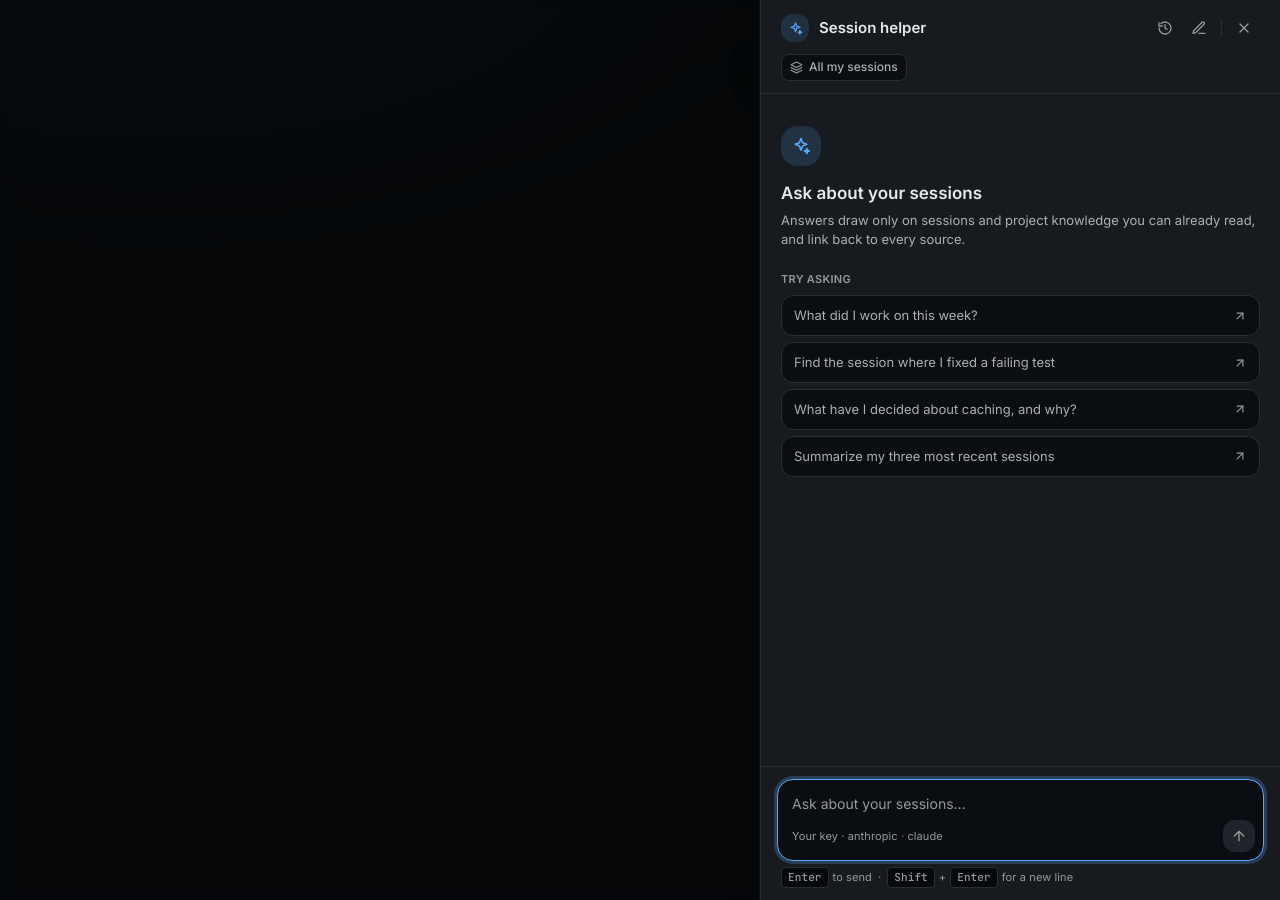
Test: HelperPanel — streaming › does not double the break the server already streamed
Type "q" into the text box named "Ask the session helper" at (1020, 800), box [778,780,1263,820]
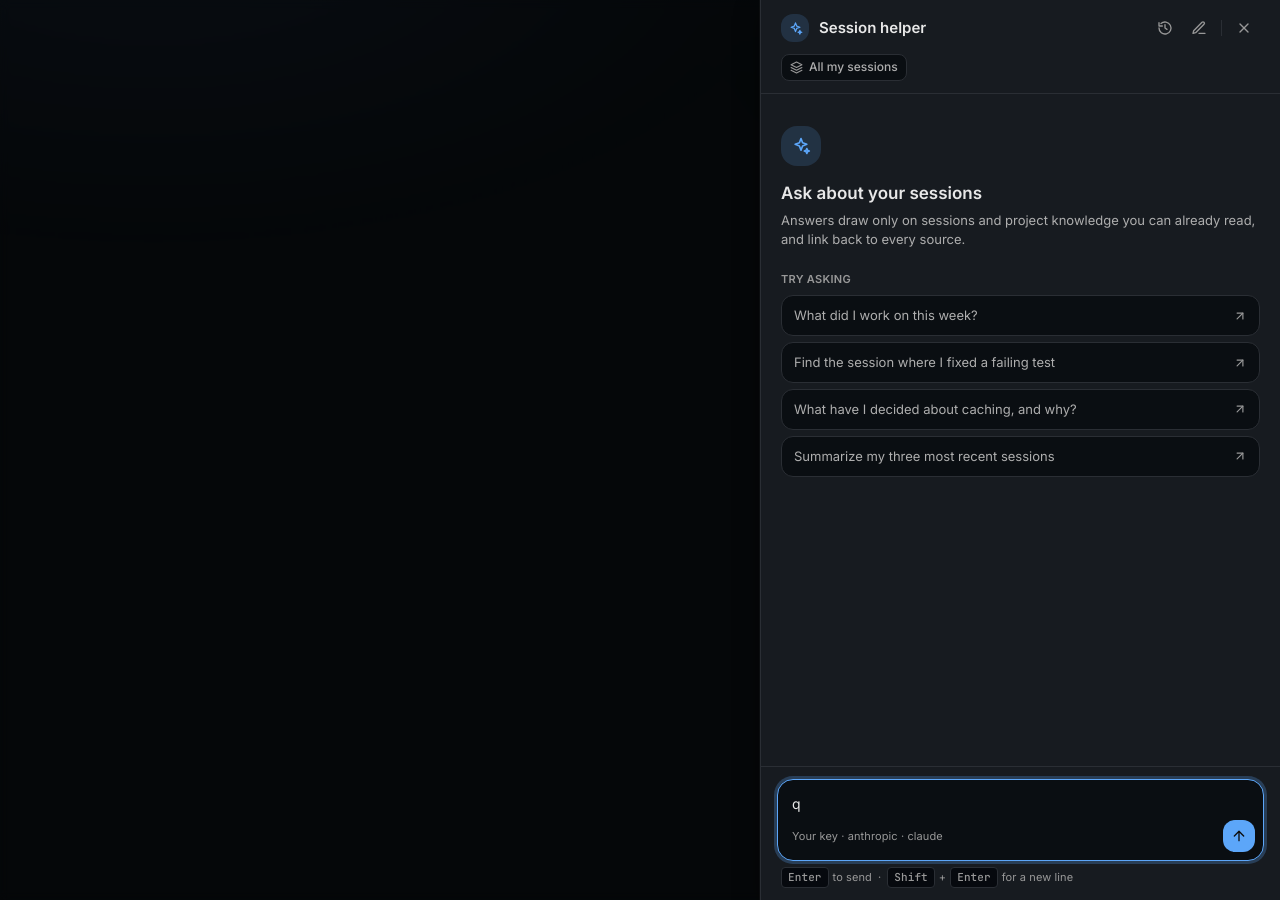
Press Enter
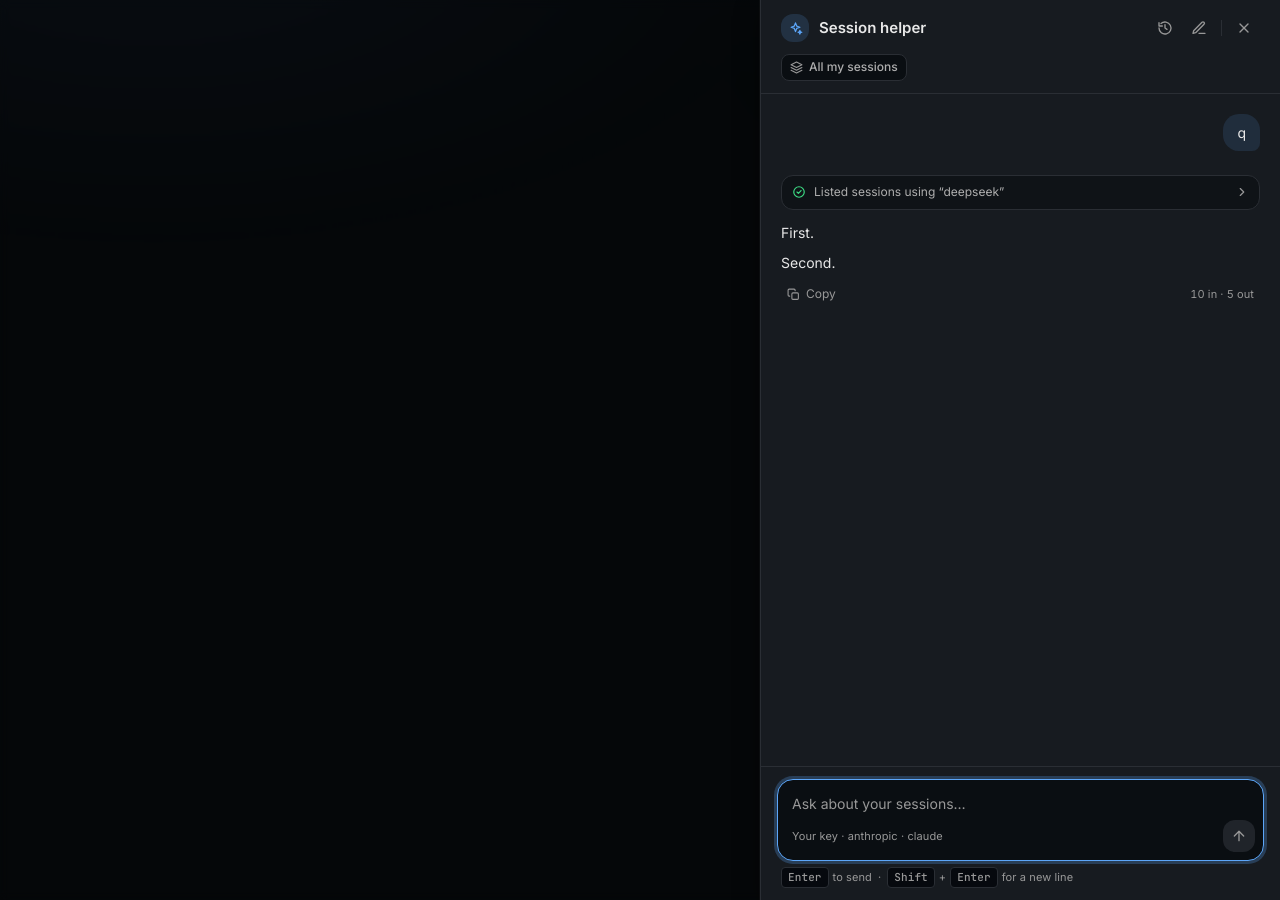
Expected: the button "Listed sessions using “deepseek”" is shown, [782,176,1259,209]
